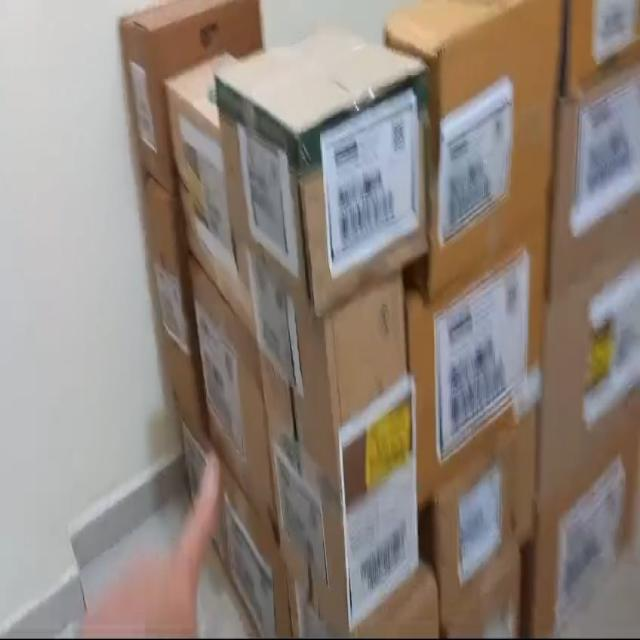BoxFace: (406, 217, 552, 508), (312, 276, 421, 636), (288, 63, 431, 319), (423, 9, 559, 278), (421, 406, 542, 627)
